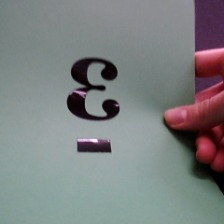green3: (64, 51, 126, 160)
